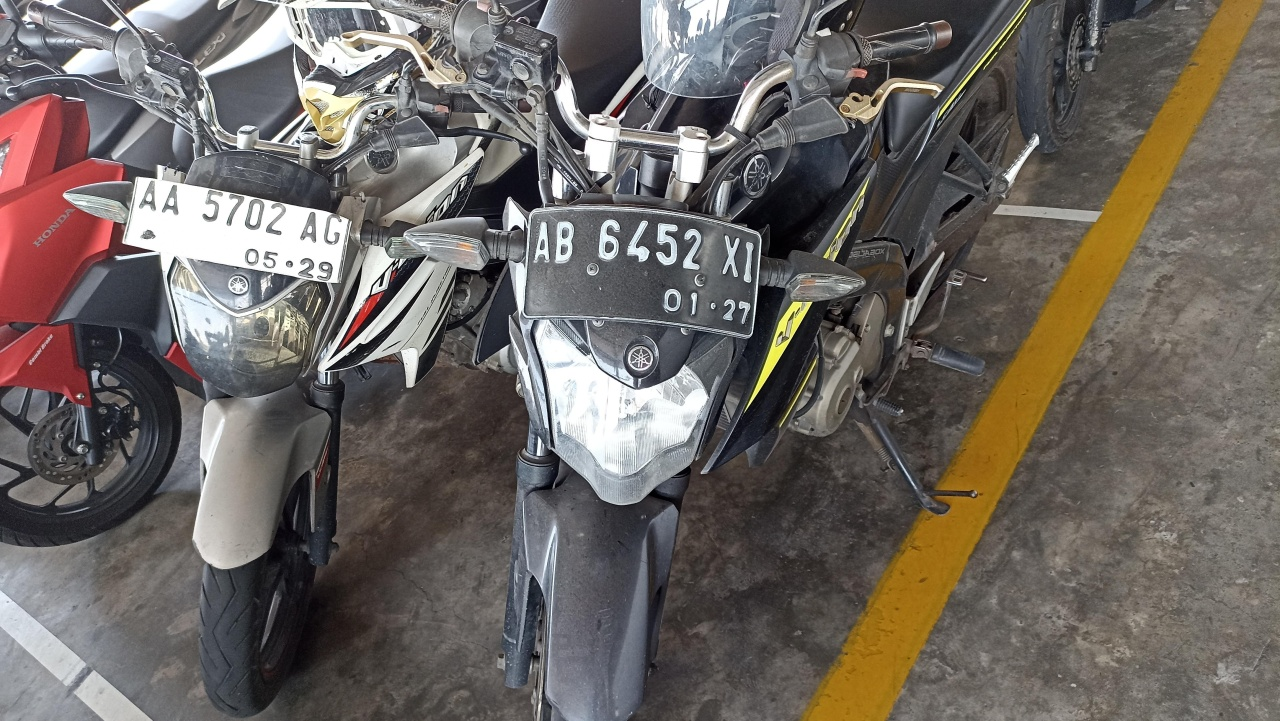plate: (523, 207, 762, 338), (122, 175, 352, 283)
